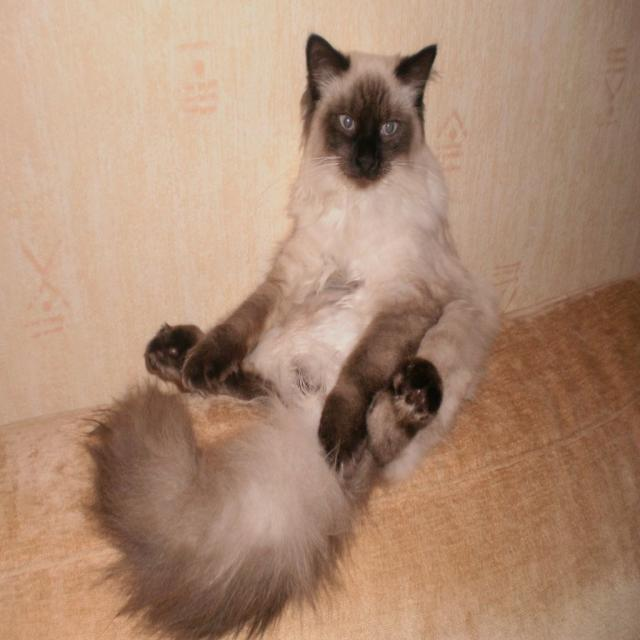Cat: (69, 32, 501, 639)
